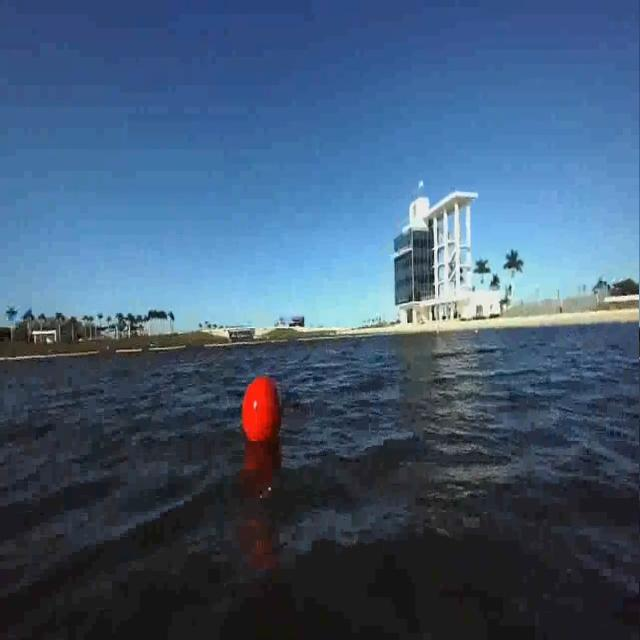red-buoy: (240, 376, 282, 446)
